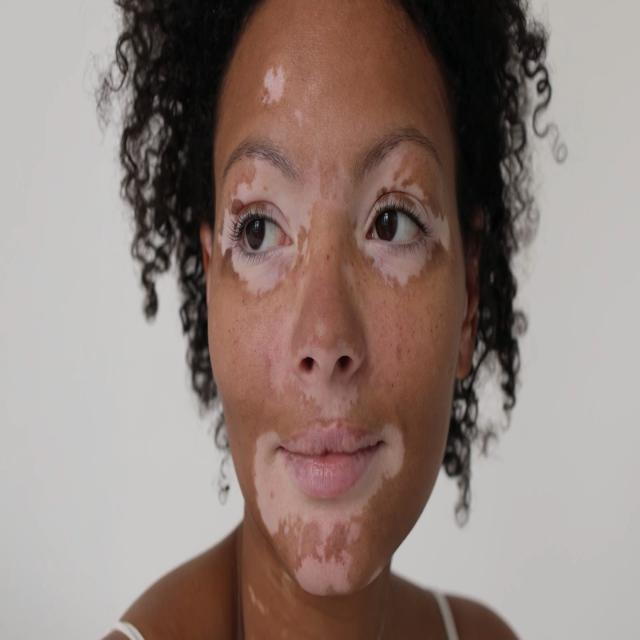vitiligo: (208, 60, 449, 623)
